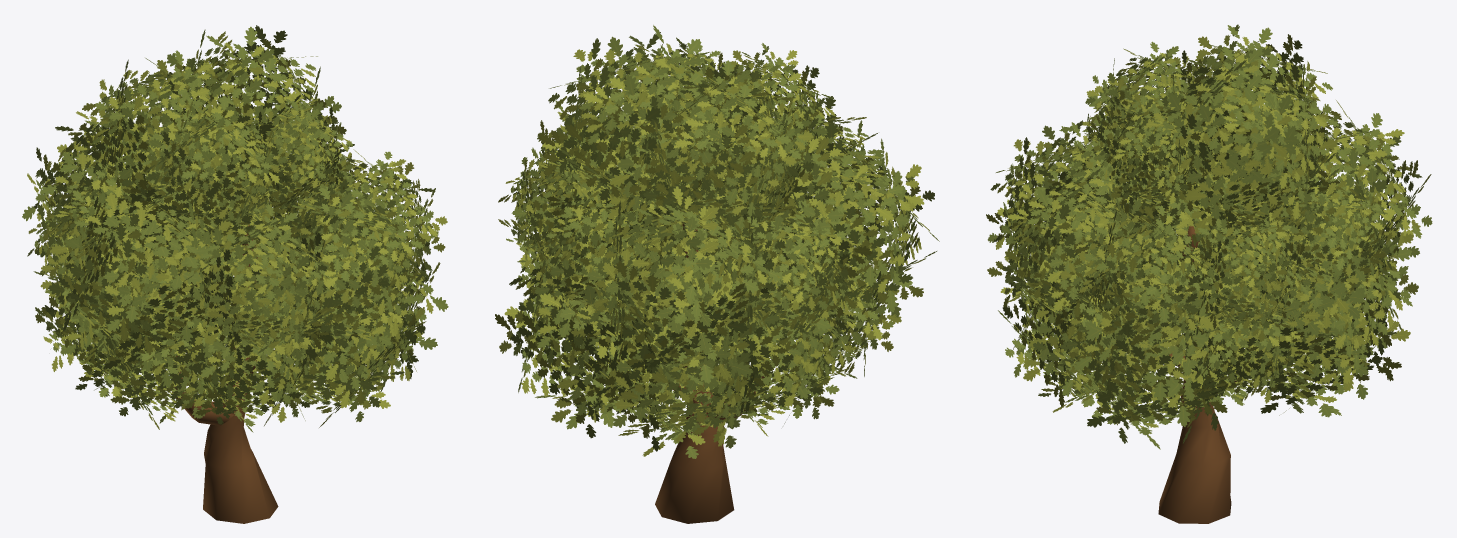
File: Oak_Tree_1.fbx
3 renders of one model, left to right at view 1: azimuth 30°, elevation 25°; view 2: azimuth 150°, elevation 25°; view 3: azimuth 270°, elevation 25°, orthographic. The views are drawn at different scales.
Visible parts, largest first — view 1: Oak_Tree_1; view 2: Oak_Tree_1; view 3: Oak_Tree_1.
Part boxes in pixels (box(x1,y1,x2,y2)): Oak_Tree_1: box(22, 25, 448, 523); Oak_Tree_1: box(495, 25, 939, 523); Oak_Tree_1: box(986, 24, 1432, 523).
Size of the model in its own units: 679 by 774 by 688.
Materials: 2 (2 with a texture image).
